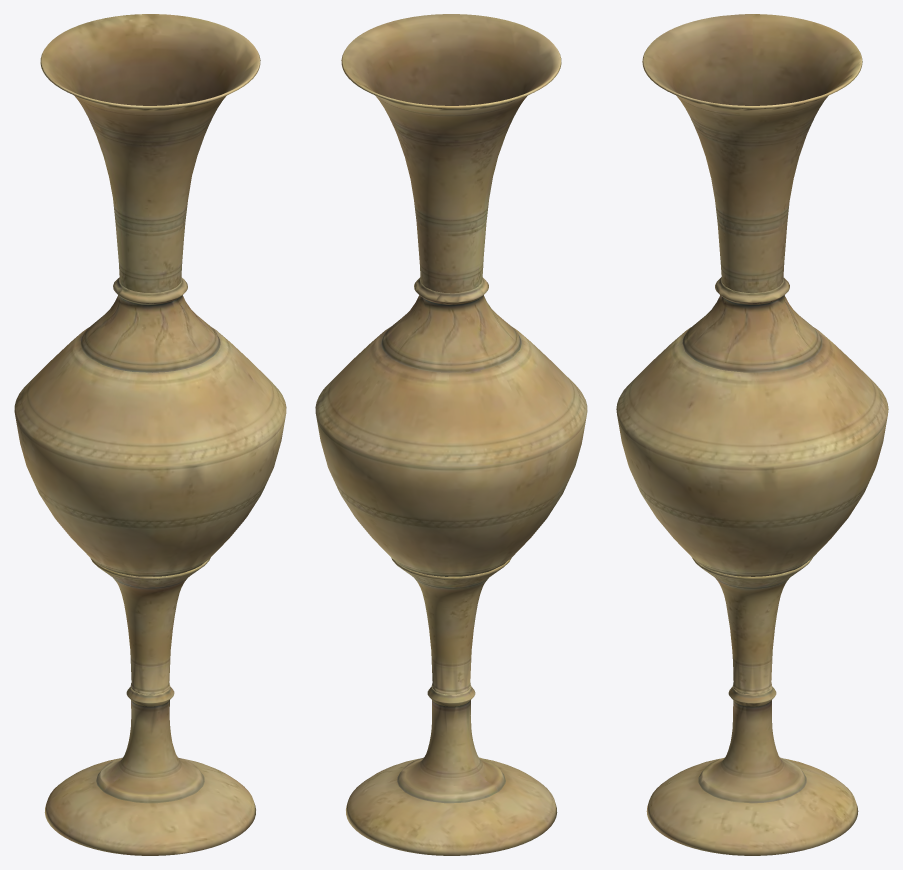
The model's file is brass_vase_01.glb.
The picture shows the model from 3 angles, left to right: view 1: azimuth 30°, elevation 25°; view 2: azimuth 150°, elevation 25°; view 3: azimuth 270°, elevation 25°; orthographic projection.
Parts seen in each view (by area): view 1: brass_vase_01; view 2: brass_vase_01; view 3: brass_vase_01.
Part boxes in pixels (left/top/right/bottom): brass_vase_01: left=14, top=14, right=286, bottom=855; brass_vase_01: left=315, top=14, right=587, bottom=855; brass_vase_01: left=616, top=14, right=888, bottom=855.
Size of the model in its own units: 0.2272 by 0.6925 by 0.2272.
1 material, 1 textured.
